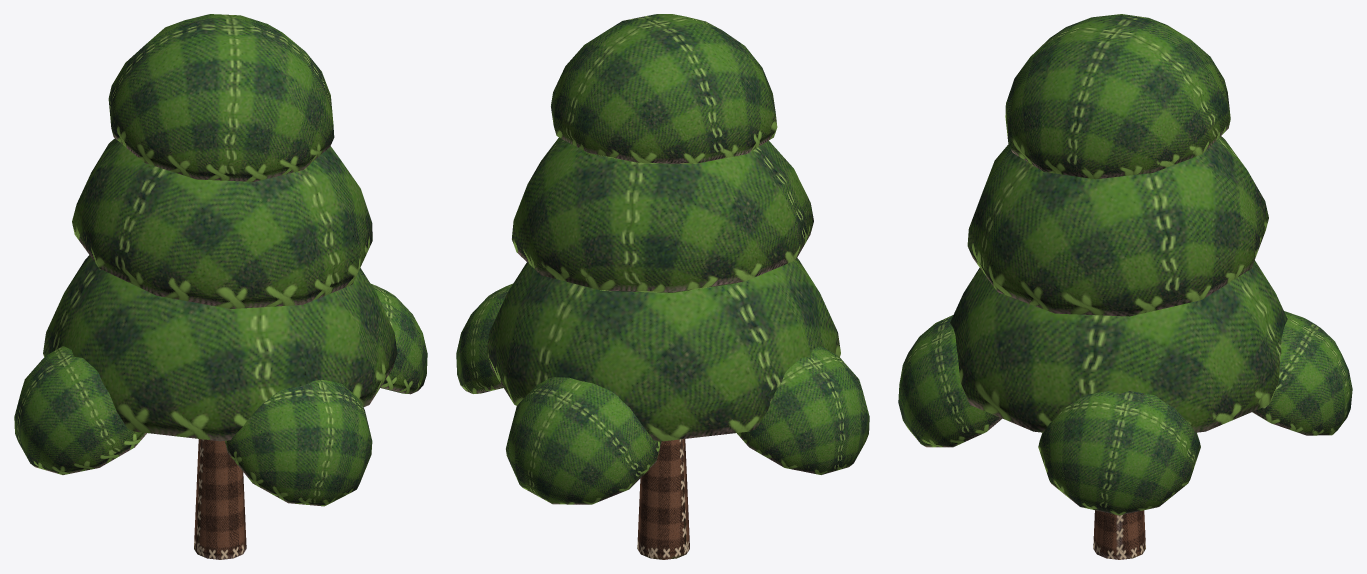
The model's file is lpb_cs_tree11.fbx.
3 views of the same model, side by side, from view 1: azimuth 30°, elevation 25°; view 2: azimuth 150°, elevation 25°; view 3: azimuth 270°, elevation 25° (orthographic).
Visible parts, largest first — view 1: lpb_cs_tree11; view 2: lpb_cs_tree11; view 3: lpb_cs_tree11.
Part boxes in pixels (<box>): lpb_cs_tree11: <box>14,14,427,559</box>; lpb_cs_tree11: <box>456,14,869,559</box>; lpb_cs_tree11: <box>898,14,1352,559</box>.
Bounding box in the file's own units: 154 × 196 × 154.
